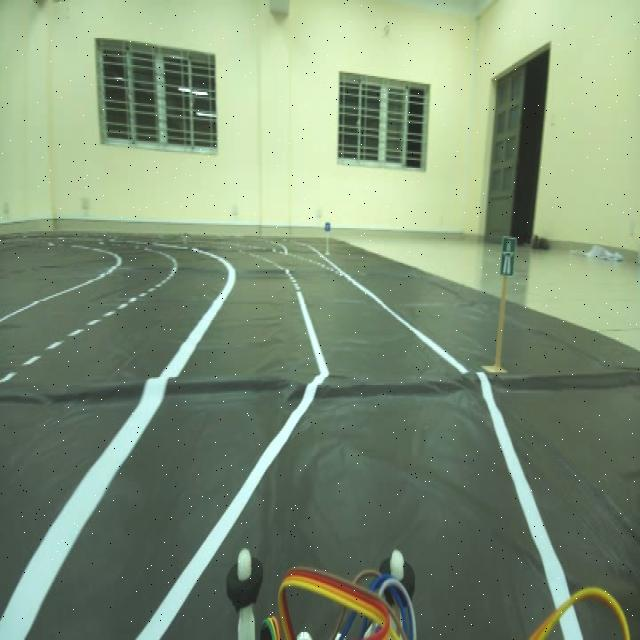highway_entry: (498, 222, 520, 285)
